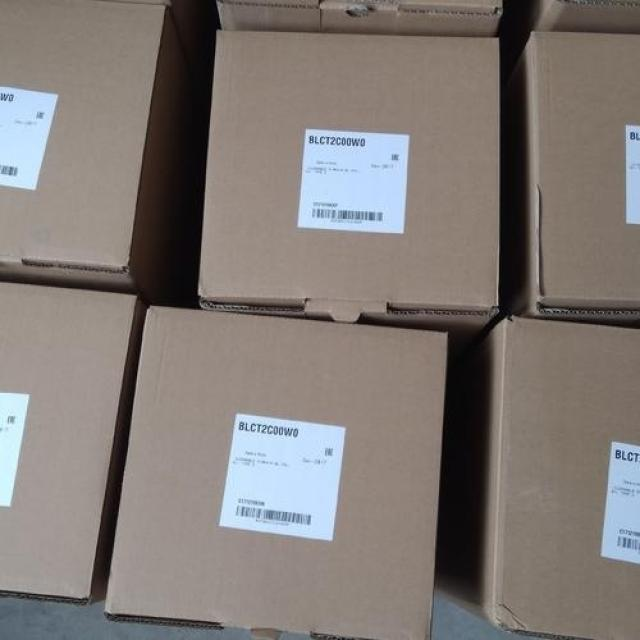box: (102, 306, 452, 639), (199, 32, 499, 385), (0, 2, 215, 299), (472, 316, 639, 638), (0, 282, 137, 605), (501, 32, 639, 323), (502, 33, 639, 324), (501, 2, 639, 77), (216, 1, 505, 36)
